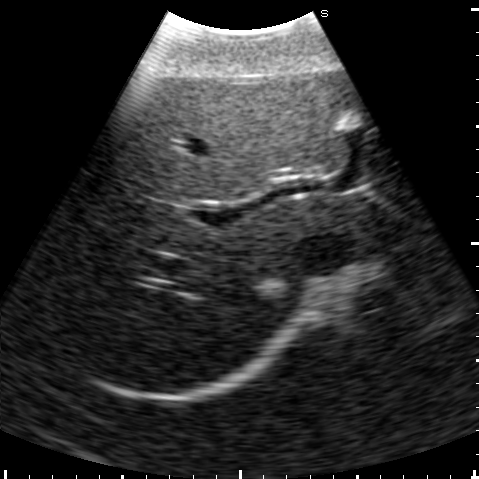IVC: (296, 234, 352, 276)
S1: (323, 196, 406, 247)
S2: (372, 185, 428, 219)
S3: (365, 134, 412, 193)
S4: (138, 68, 361, 198)
Tumor: (334, 110, 362, 132), (257, 278, 285, 298)
